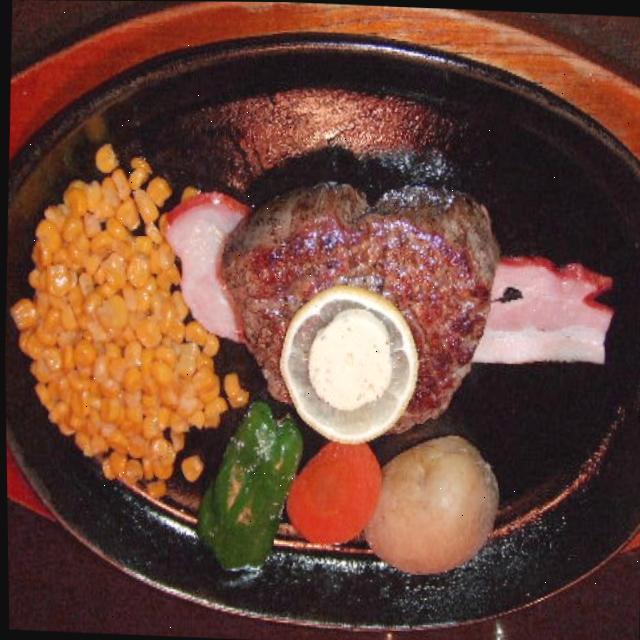牛肉菜式: (198, 150, 507, 452)
